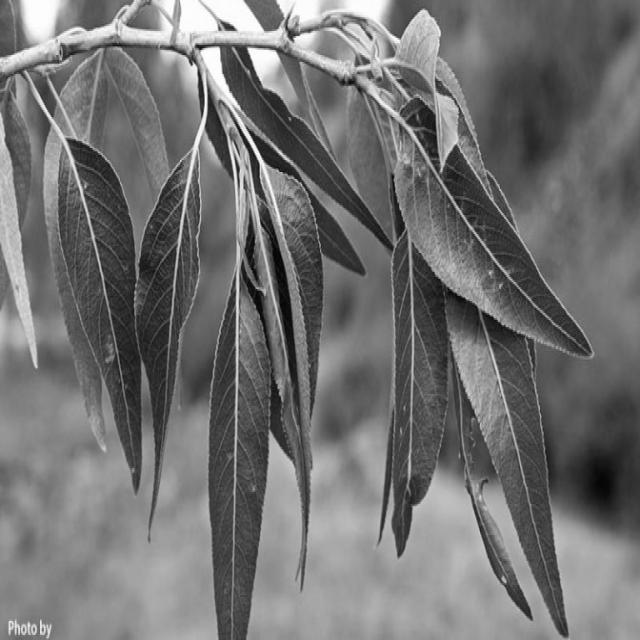Populus angustifolia: (0, 5, 574, 629)
